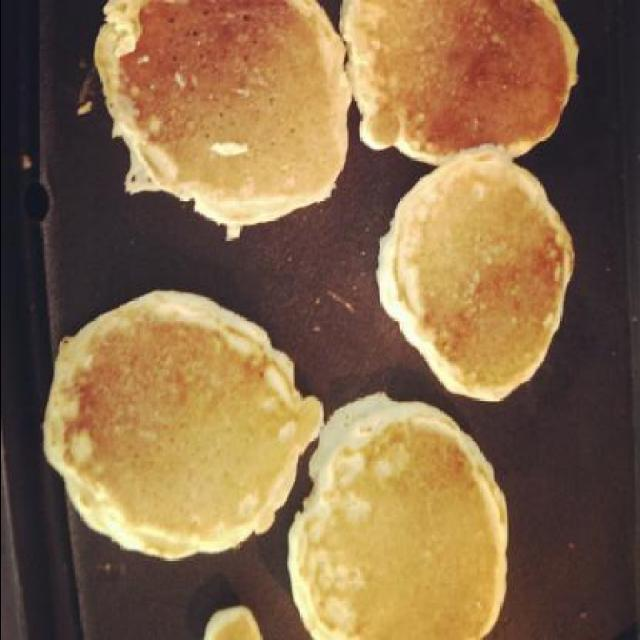Pancake: (42, 288, 324, 554), (87, 0, 355, 246), (284, 393, 513, 639), (369, 140, 582, 402), (336, 0, 579, 172)
